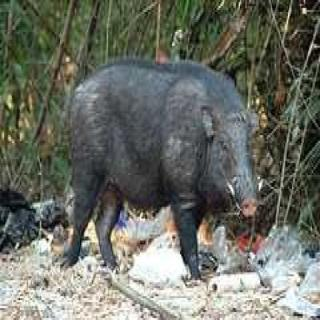Pig: (36, 34, 264, 304)
